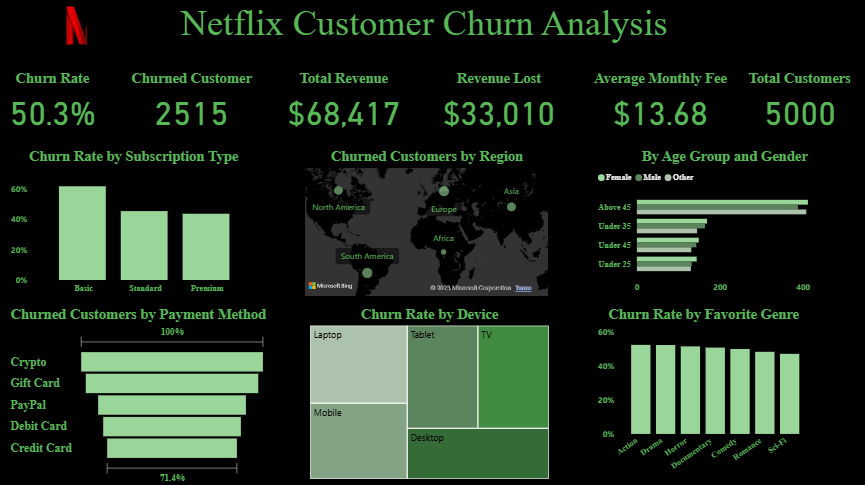

The dashboard page shown, as its layout file describes it:
{"tool":"powerbi","page":{"name":"Page 1","canvas":[1280,720],"ordinal":0},"visuals":[{"type":"textbox","box":[254.3,0,747.1,81.4],"z":0},{"type":"image","box":[0,0,230,81.7],"z":1000},{"type":"card","title":"Churn Rate","fields":{"Values":["netflix_customer_churn.Churn Rate"]},"box":[0,105.7,162.9,92.9],"z":2000},{"type":"card","title":"Churned Customer","fields":{"Values":["netflix_customer_churn.Churned Customers"]},"box":[187.1,105.7,198.6,92.9],"z":3000},{"type":"card","title":"Revenue Lost","fields":{"Values":["netflix_customer_churn.Revenue Lost"]},"box":[628.6,105.7,217.1,92.9],"z":4000},{"type":"card","title":"Total Revenue","fields":{"Values":["netflix_customer_churn.Total Revenue"]},"box":[418.6,105.7,181.4,92.9],"z":5000},{"type":"card","title":"Total Customers","fields":{"Values":["netflix_customer_churn.Total Customers"]},"box":[1097.8,105.6,163.3,93.3],"z":6000},{"type":"card","title":"Average Monthly Fee","fields":{"Values":["Avg(netflix_customer_churn.Monthly Fee)"]},"box":[870,105.7,210,92.9],"z":7000},{"type":"clusteredColumnChart","fields":{"Y":["netflix_customer_churn.Churn Rate"],"Category":["netflix_customer_churn.Subscription Type"]},"box":[14,221,372,222],"z":8000},{"type":"map","fields":{"Category":["netflix_customer_churn.Region"],"Size":["netflix_customer_churn.Churned Customers"]},"box":[448,221,367,222],"z":9000},{"type":"clusteredBarChart","title":"By Age Group and Gender","fields":{"Category":["netflix_customer_churn.Age Group"],"Y":["netflix_customer_churn.Churned Customers"],"Series":["netflix_customer_churn.Gender"]},"box":[877,221,384,222],"z":10000},{"type":"funnel","fields":{"Category":["netflix_customer_churn.Payment Method"],"Y":["netflix_customer_churn.Churned Customers"]},"box":[14,453,386,267],"z":11000},{"type":"treemap","fields":{"Group":["netflix_customer_churn.Device"],"Values":["netflix_customer_churn.Churn Rate"]},"box":[455,453,360,259],"z":11001},{"type":"columnChart","fields":{"Category":["netflix_customer_churn.Favorite Genre"],"Y":["netflix_customer_churn.Churn Rate"]},"box":[877,453,322,259],"z":11002}]}

Visuals, with their boxes in screenshot pixels (x1, y1, x2, y2), scaled from the page's 1280x720 canvas onto the 865x485 screenshot:
textbox: <region>172, 0, 677, 55</region>
image: <region>0, 0, 155, 55</region>
"Churn Rate" card: <region>0, 71, 110, 134</region>
"Churned Customer" card: <region>126, 71, 261, 134</region>
"Revenue Lost" card: <region>425, 71, 572, 134</region>
"Total Revenue" card: <region>283, 71, 405, 134</region>
"Total Customers" card: <region>742, 71, 852, 134</region>
"Average Monthly Fee" card: <region>588, 71, 730, 134</region>
clusteredColumnChart - netflix_customer_churn.Churn Rate x netflix_customer_churn.Subscription Type: <region>9, 149, 261, 298</region>
map - netflix_customer_churn.Region x netflix_customer_churn.Churned Customers: <region>303, 149, 551, 298</region>
"By Age Group and Gender" clusteredBarChart: <region>593, 149, 852, 298</region>
funnel - netflix_customer_churn.Payment Method x netflix_customer_churn.Churned Customers: <region>9, 305, 270, 484</region>
treemap - netflix_customer_churn.Device x netflix_customer_churn.Churn Rate: <region>307, 305, 551, 480</region>
columnChart - netflix_customer_churn.Favorite Genre x netflix_customer_churn.Churn Rate: <region>593, 305, 810, 480</region>
